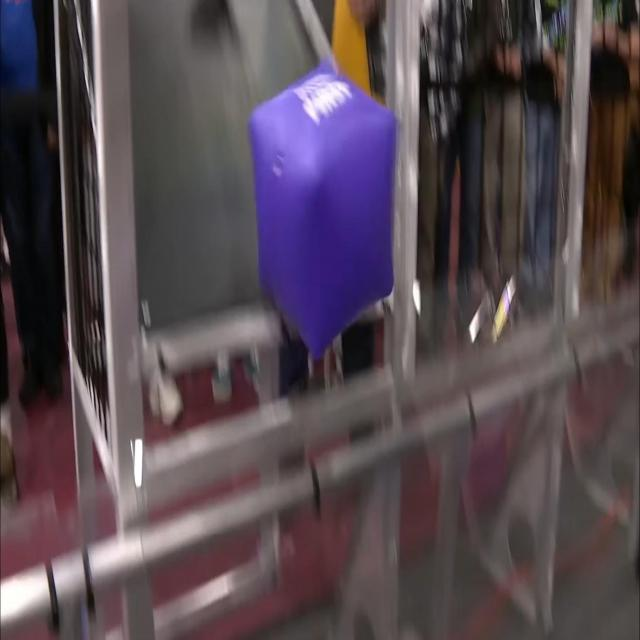frc_cone: (318, 0, 387, 118)
frc_cube: (236, 62, 409, 364)
